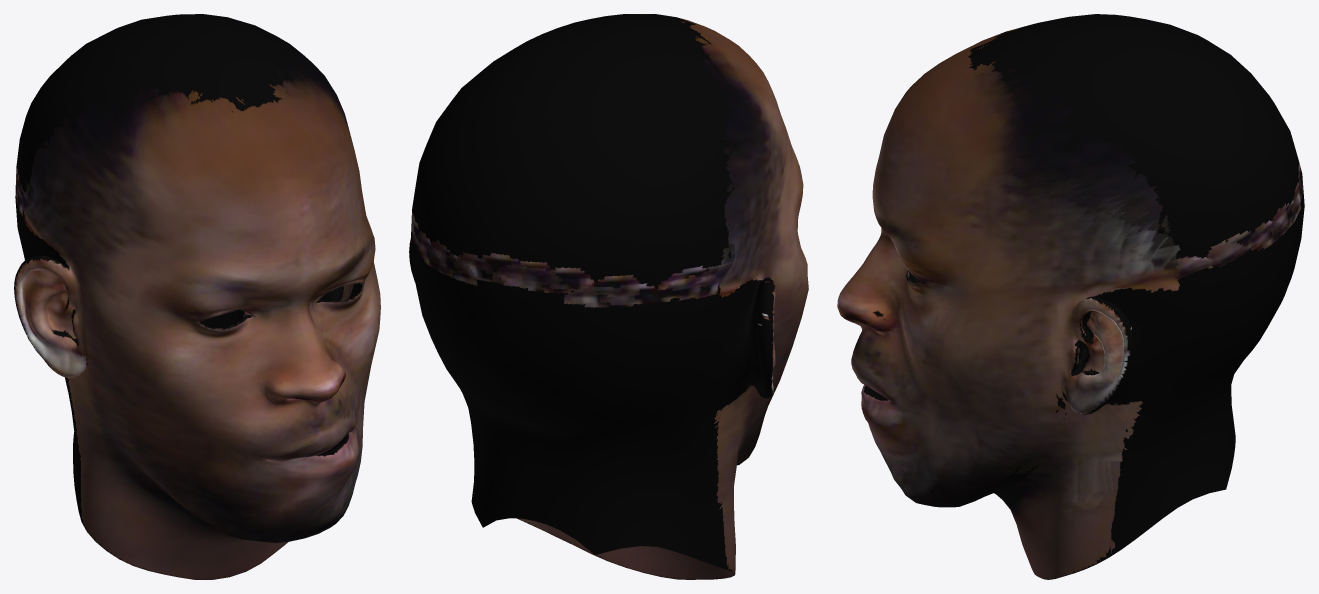
Rendered from JawLeft.obj.
3 renders of one model, left to right at view 1: azimuth 30°, elevation 25°; view 2: azimuth 150°, elevation 25°; view 3: azimuth 270°, elevation 25°, orthographic. The views are drawn at different scales.
Size of the model in its own units: 191 by 281 by 223.
